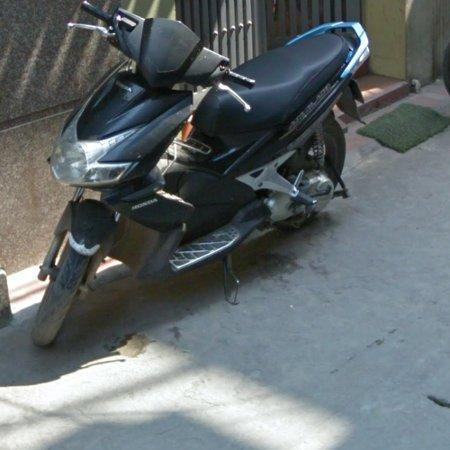motorcycles: (32, 0, 370, 346)
